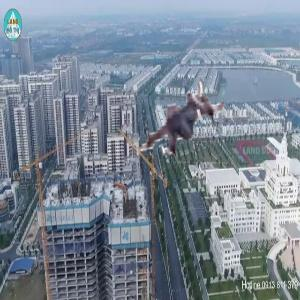drone: (121, 62, 234, 175)
